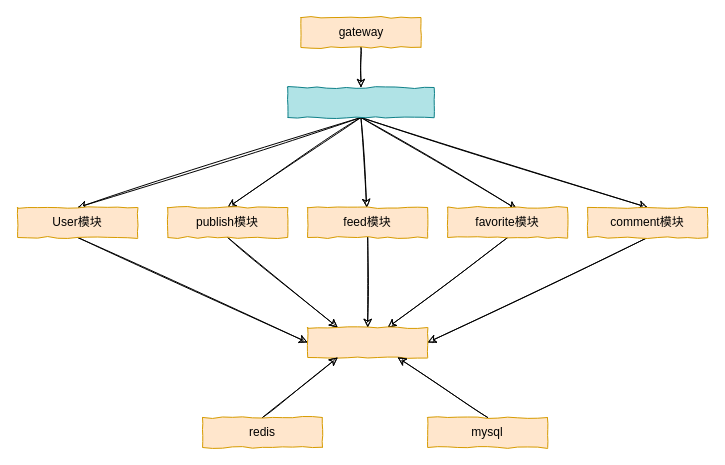
Some shapes in this 725 by 465 pixel diagram are drawn without their labels. Here are the shapes that lost their labels. From the top down, the centre of each, then its label:
At point 360,102: "提供gin http服务".
At point 367,342: "consul".
